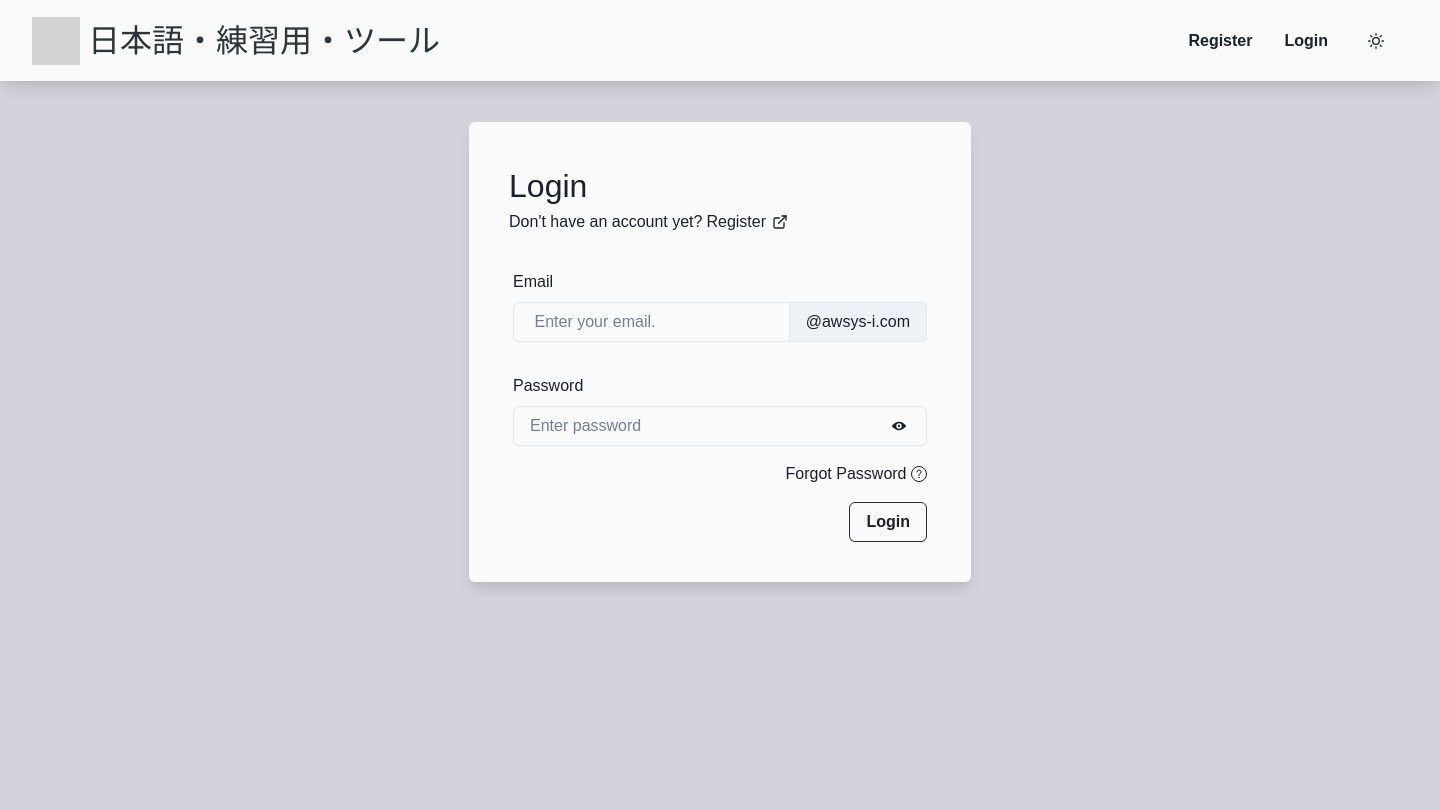
Test case: -------------- Unit Testing -------------- › VITEST_UT_LOGIN-200 Check if login form Show error alerts › VITEST_UT_LOGIN-202 Should Show popup alert on password field if login button pressed without input in email field
The image size is (1440, 810).
Type "palceholder" into the password field with placeholder "Enter password" at (720, 426), box [513,406,927,446]
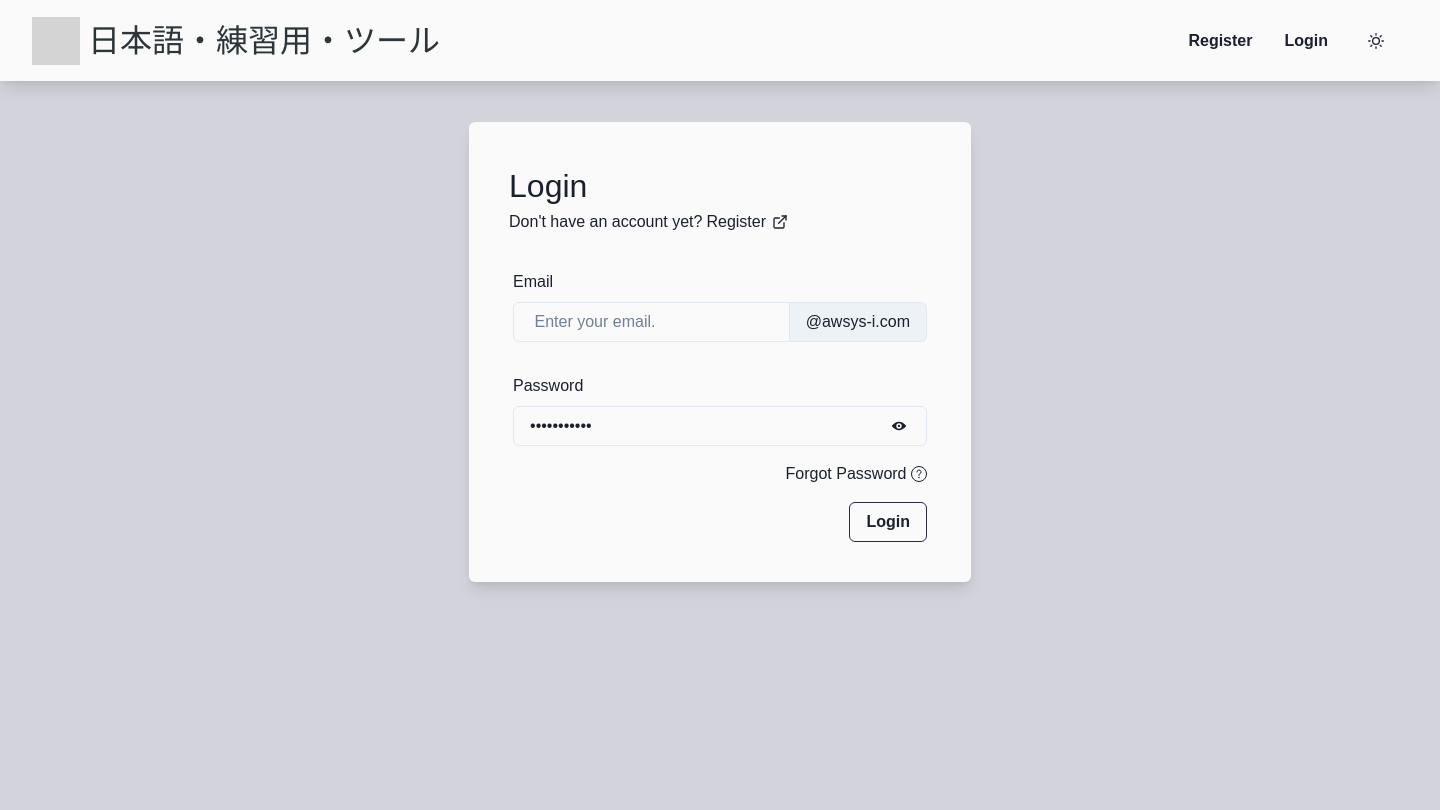
Click the button with test id "login-button" at (888, 522), box [849,502,927,542]
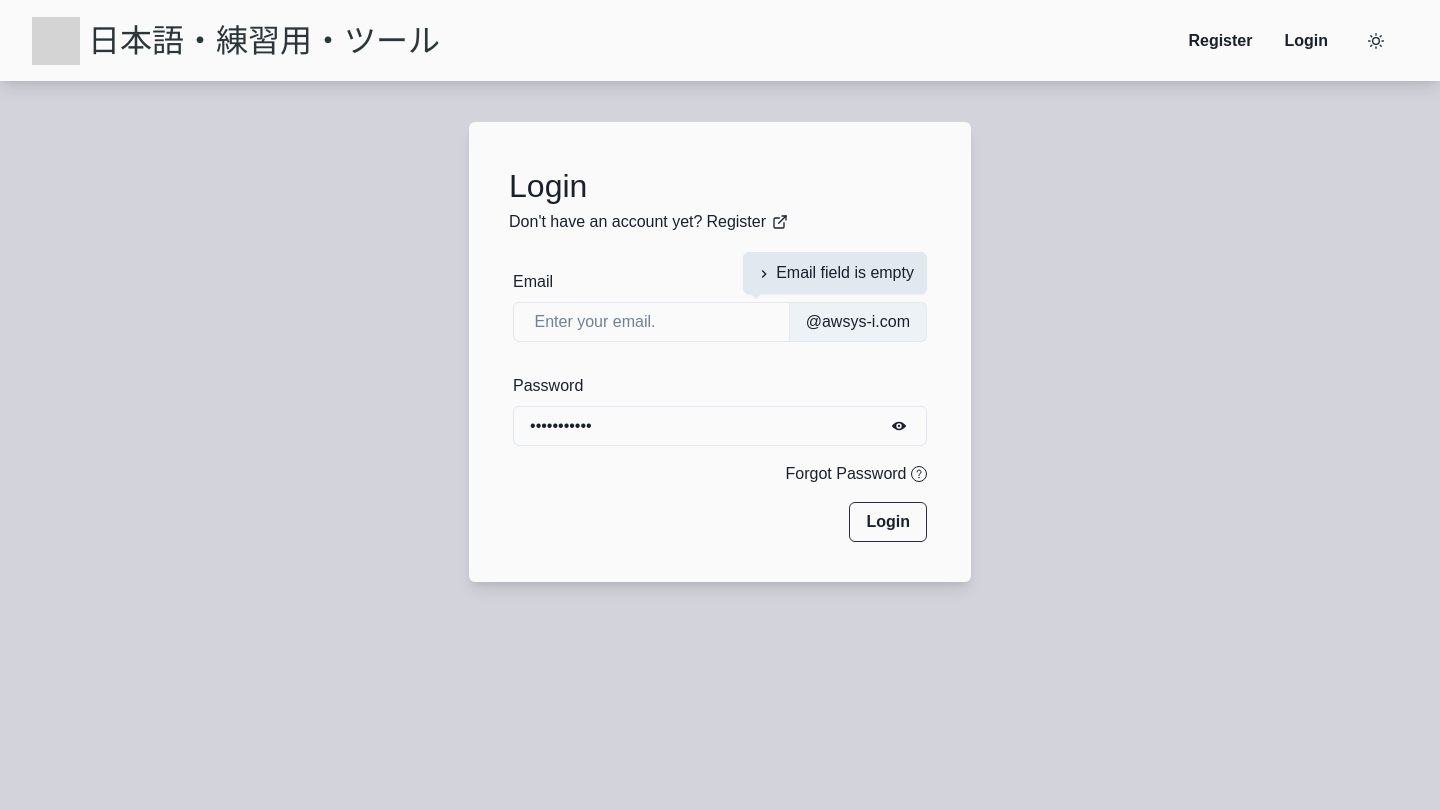
Check: the text "Email field is empty" is shown, box [756,264,914,282]
